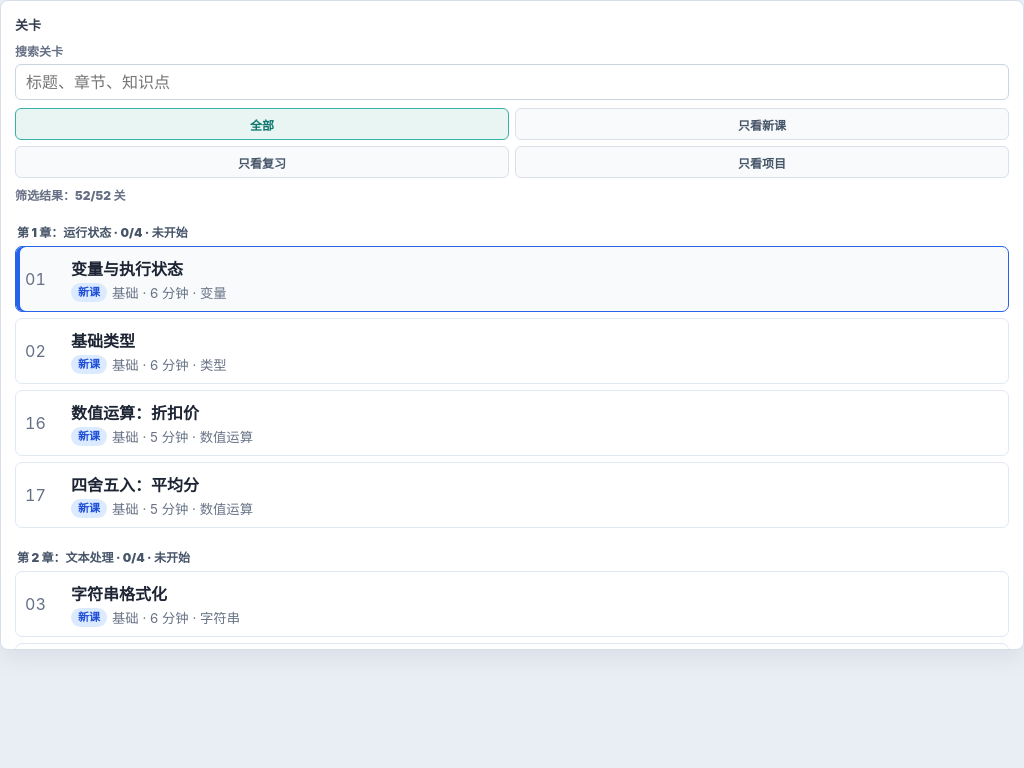
Test case: LevelList › filters levels by mode
Click the button "只看项目": (762,162) [515, 146, 1009, 178]
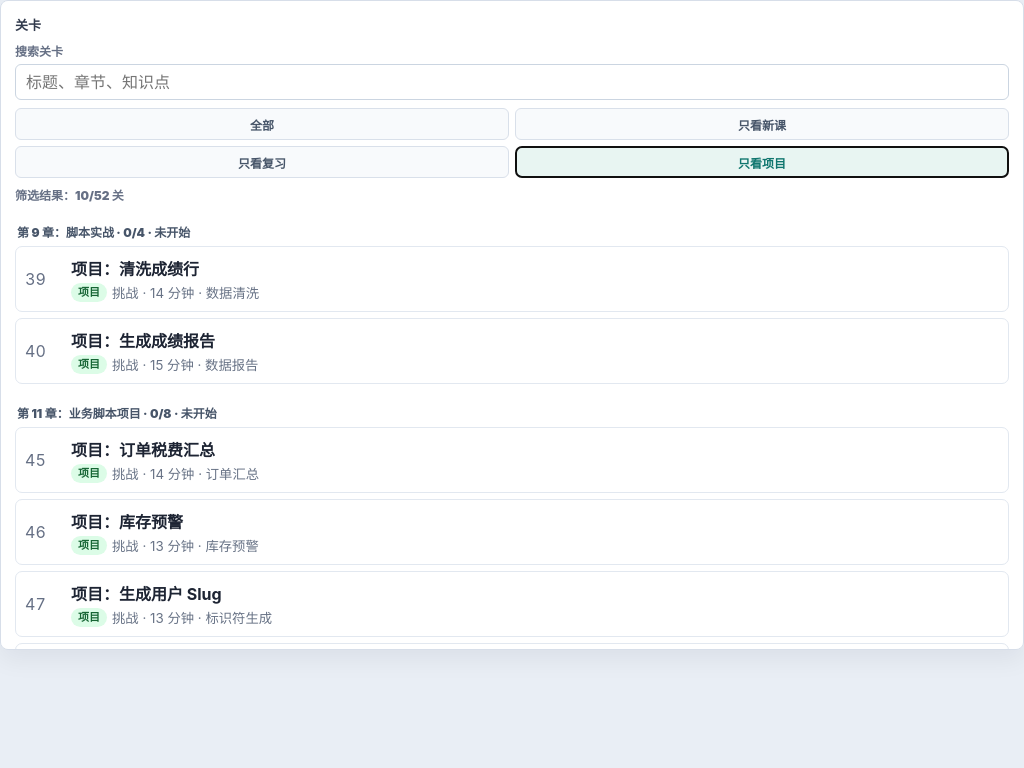
Expected: the text "筛选结果：10/52 关" is shown, [15, 188, 124, 203]
Expected: the button "45 项目：订单税费汇总 项目 挑战 · 14 分钟 · 订单汇总" is shown, [15, 427, 1009, 493]
Expected: the button "基础类型" is gone
